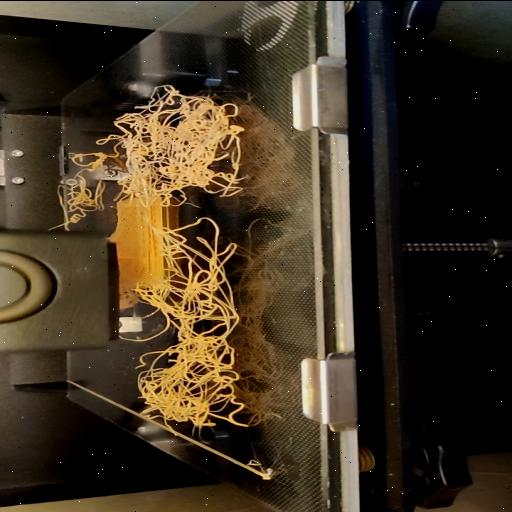spaghetti: (116, 83, 244, 434), (47, 122, 120, 230)
